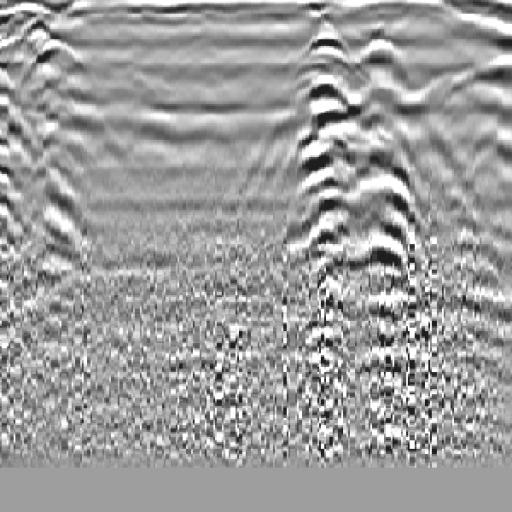metalic: (285, 6, 375, 337)
